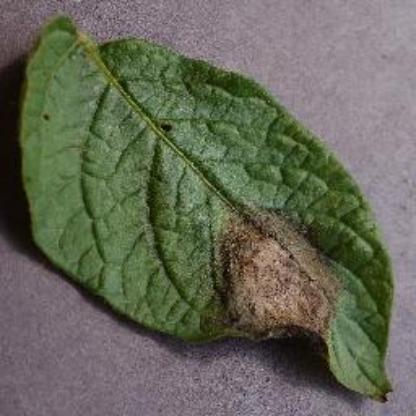Late-Blight: (14, 12, 408, 406)
